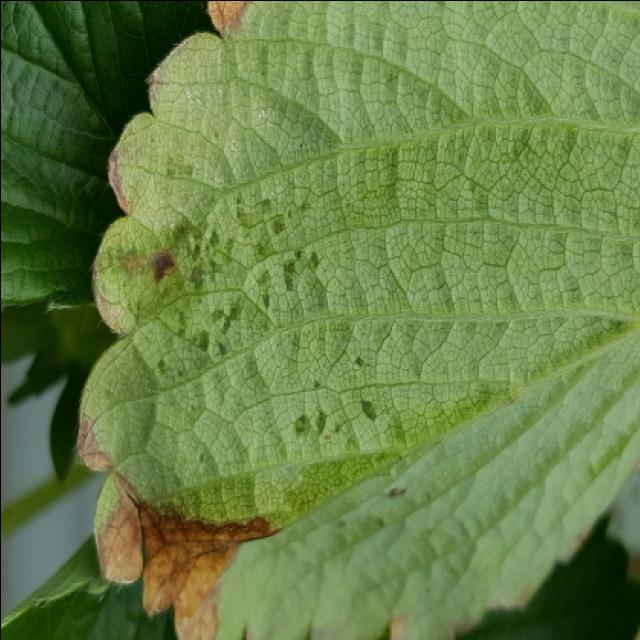Angular Leafspot: (74, 2, 423, 640)
